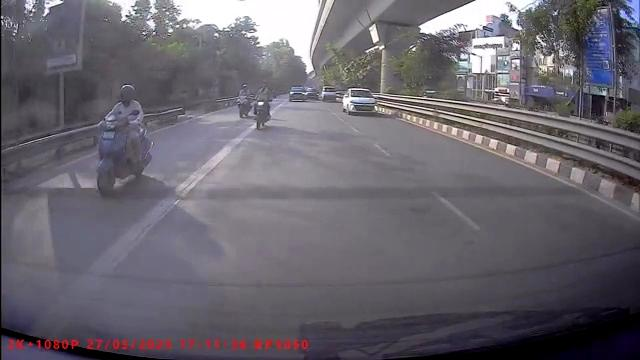motorcycle_with_helmet: (94, 83, 153, 196), (253, 82, 272, 131), (237, 82, 252, 118)
